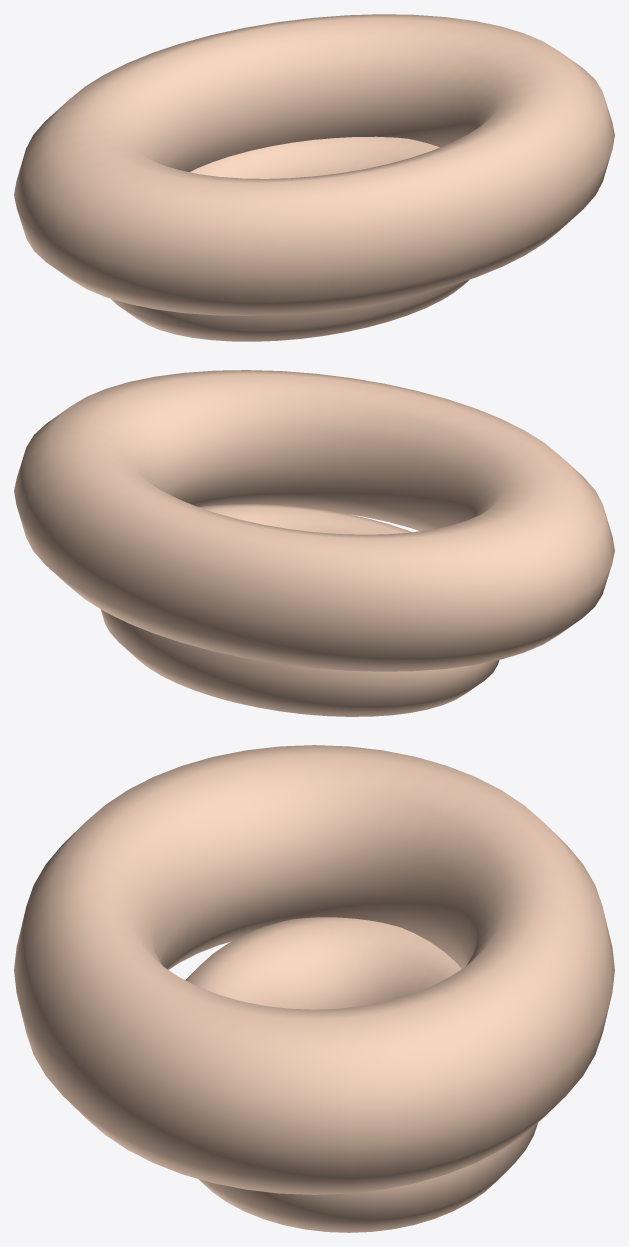
The model's file is Organ_Small_Intestine.fbx.
3 renders of one model, top to bottom at view 1: azimuth 30°, elevation 25°; view 2: azimuth 150°, elevation 25°; view 3: azimuth 270°, elevation 25°, orthographic. The views are drawn at different scales.
Parts seen in each view (by area): view 1: Organ_Small_Intestine; view 2: Organ_Small_Intestine; view 3: Organ_Small_Intestine.
Boxes of the visible parts, x1,y1,x2,y2 form: Organ_Small_Intestine: (14, 14, 614, 341); Organ_Small_Intestine: (14, 370, 614, 716); Organ_Small_Intestine: (14, 745, 614, 1232).
Size of the model in its own units: 0.726 by 0.243 by 0.528.
